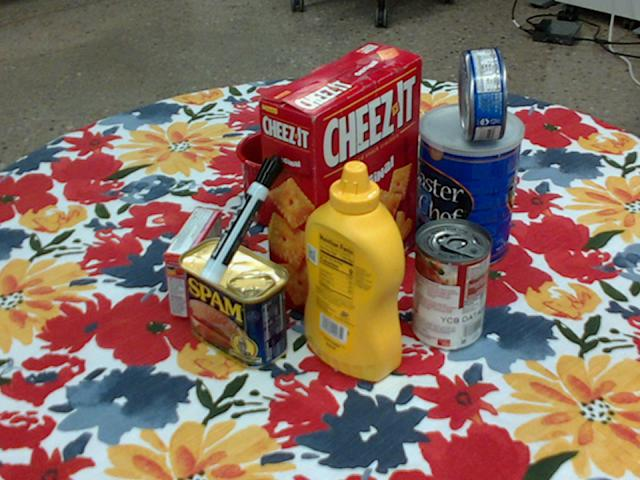cracker_box: (258, 42, 423, 320)
gelatin_box: (164, 205, 223, 318)
large_marker: (200, 153, 283, 283)
master_chef_can: (416, 103, 522, 271)
mug: (237, 128, 340, 228)
mustard_bottle: (304, 160, 405, 382)
potted_meat_can: (179, 237, 289, 369)
sugar_box: (287, 90, 449, 199)
tomato_soup_can: (411, 218, 492, 351)
tuna_fish_can: (457, 47, 508, 140)
